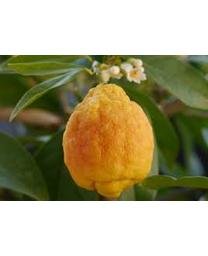lemon: (64, 84, 155, 199)
